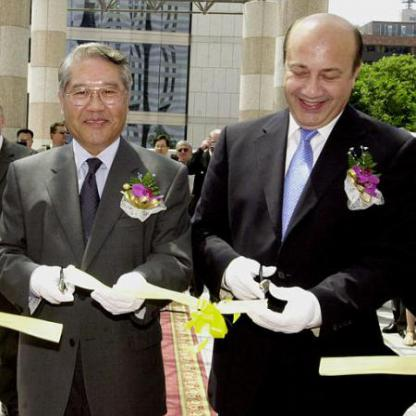face: (284, 18, 354, 129), (61, 50, 131, 147), (54, 123, 71, 146), (179, 142, 194, 162), (155, 140, 170, 158)
